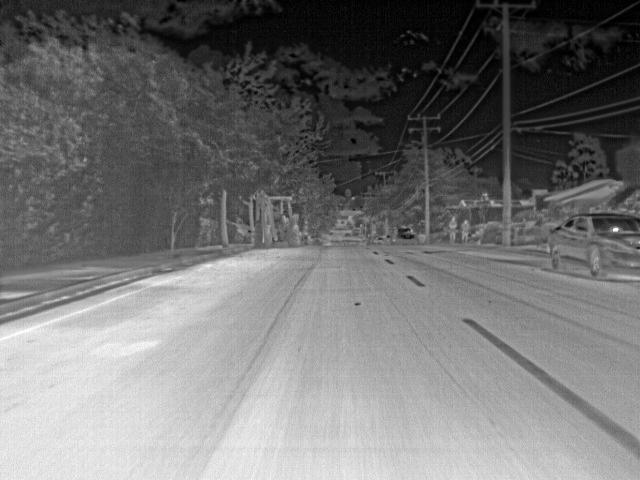car: (546, 211, 640, 277), (397, 226, 421, 246)
person: (461, 218, 475, 248), (447, 213, 460, 245)
